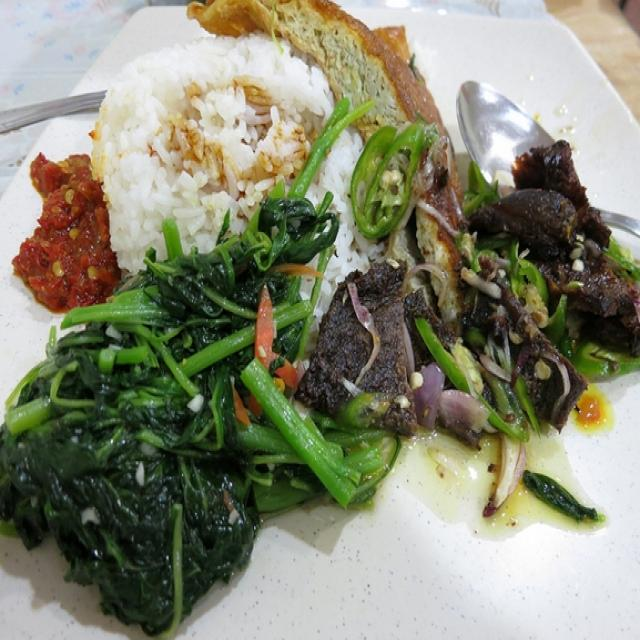米饭主食: (6, 7, 631, 634)
